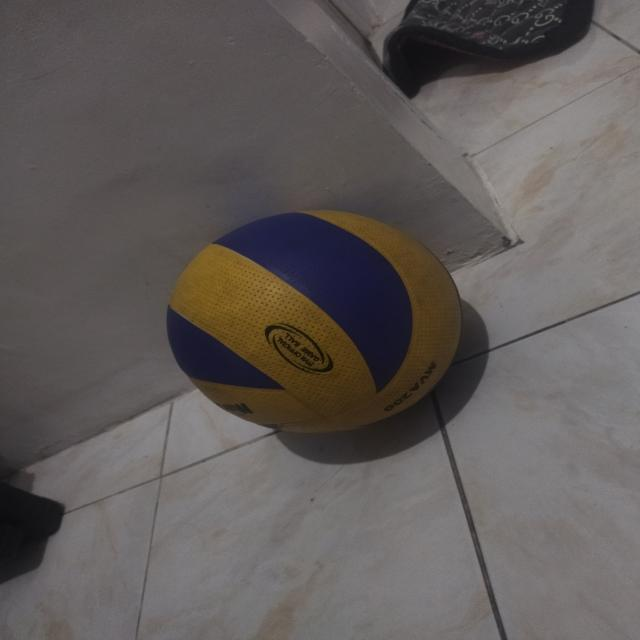Volleyball: (169, 208, 467, 437)
